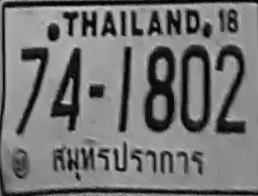0: (180, 44, 210, 132)
1: (119, 45, 132, 134)
2: (215, 44, 247, 136)
4: (50, 46, 82, 131)
7: (14, 46, 48, 135)
8: (143, 45, 175, 132)
SPK: (47, 139, 209, 185)
